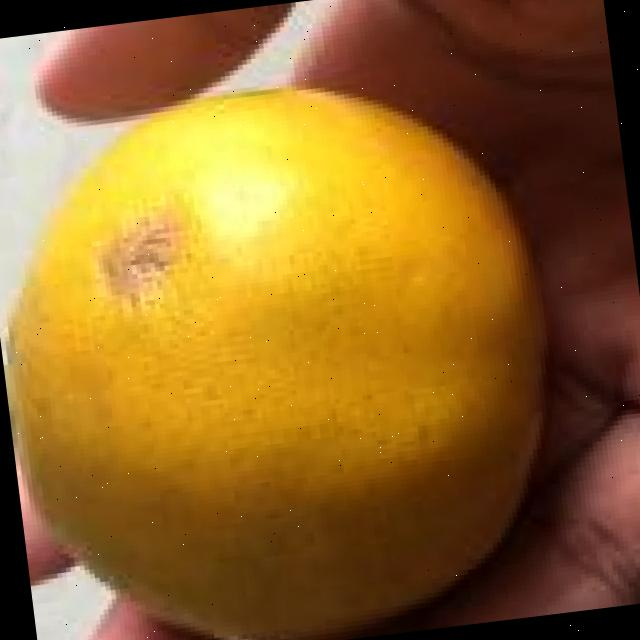Good_Orange-15-21 days: (4, 81, 558, 640)
